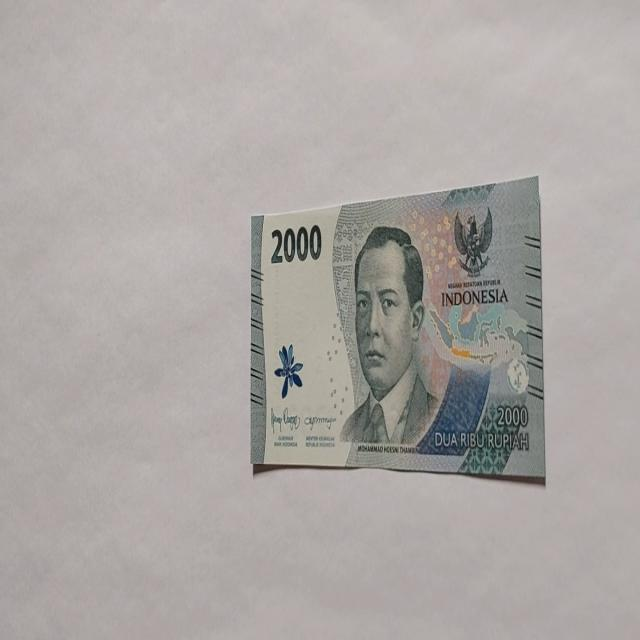dua ribu rupiah: (249, 175, 545, 481), (338, 224, 440, 450)
